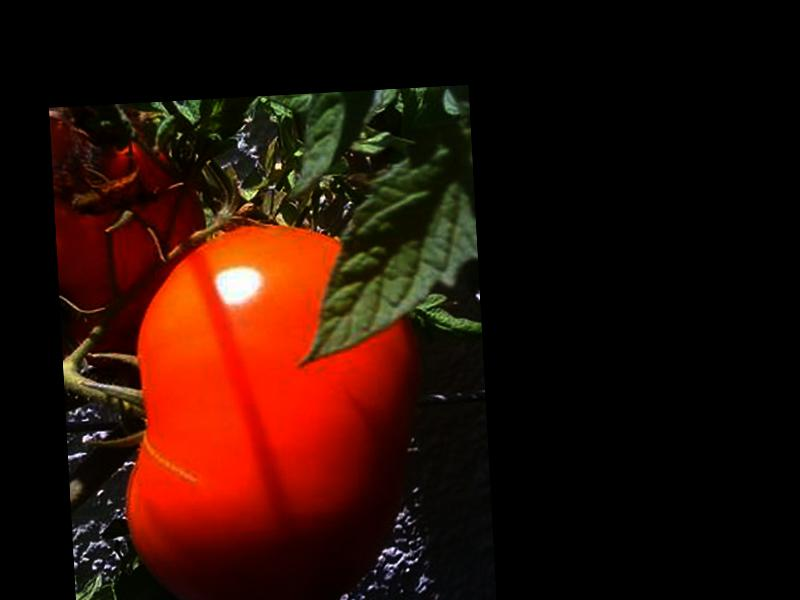Tomato: (110, 216, 431, 600)
